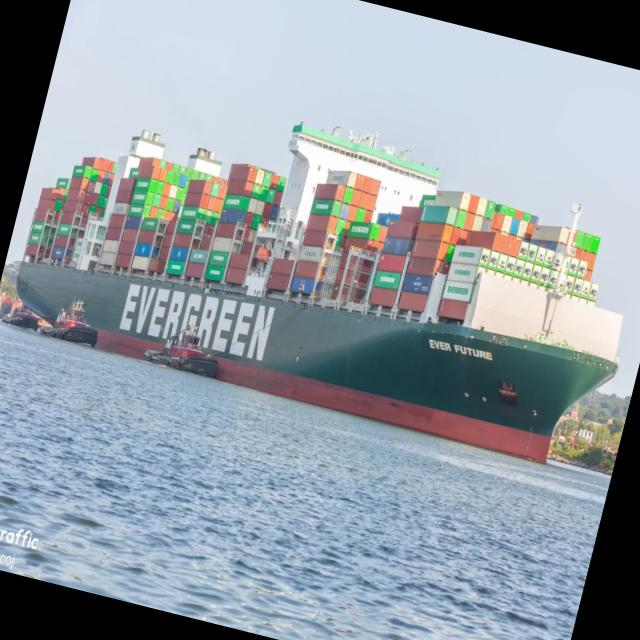Cargo: (16, 124, 621, 462)
Tug: (143, 326, 217, 376), (39, 300, 97, 346), (2, 308, 38, 330)
